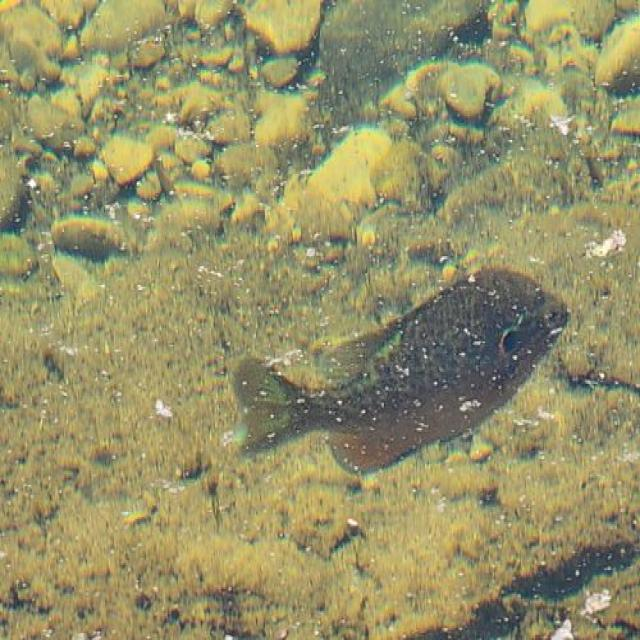Gunes Levregi: (229, 262, 572, 484)
